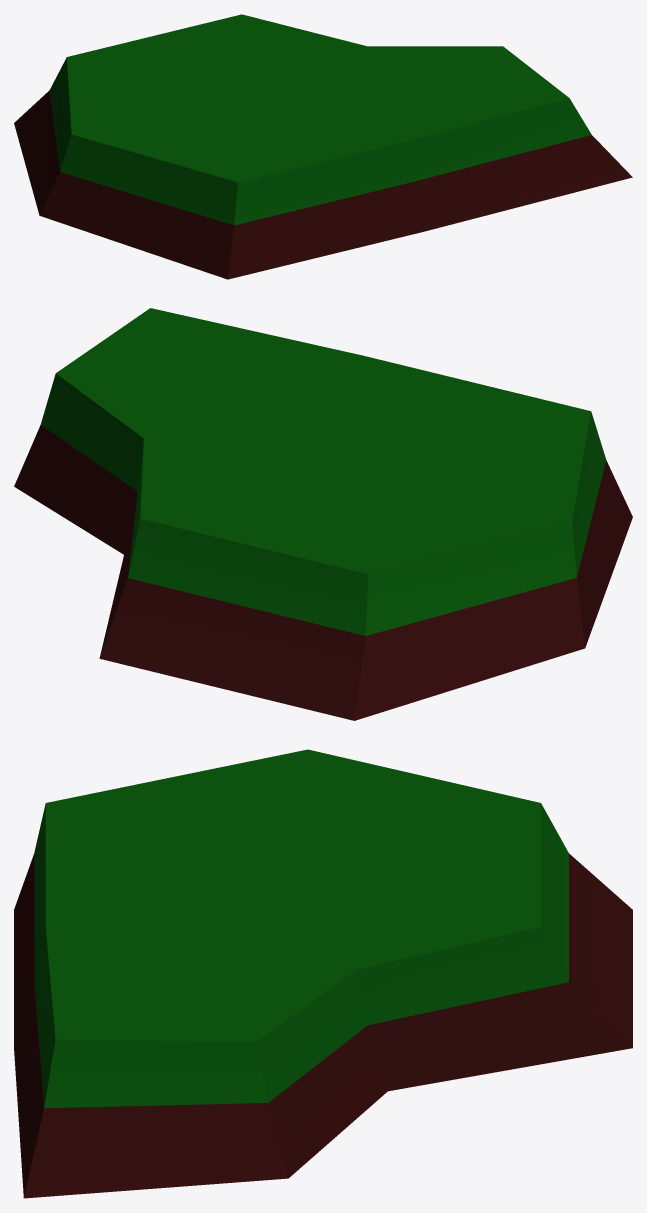
Rendered from Land2.FBX.
3 renders of one model, top to bottom at view 1: azimuth 30°, elevation 25°; view 2: azimuth 150°, elevation 25°; view 3: azimuth 270°, elevation 25°, orthographic. The views are drawn at different scales.
Parts seen in each view (by area): view 1: Box001; view 2: Box001; view 3: Box001.
Boxes of the visible parts, x1=… form: Box001: x1=14, y1=14, x2=632, y2=279; Box001: x1=14, y1=308, x2=632, y2=720; Box001: x1=14, y1=749, x2=632, y2=1198.
Bounding box in the file's own units: 5311 × 881 × 4061.
